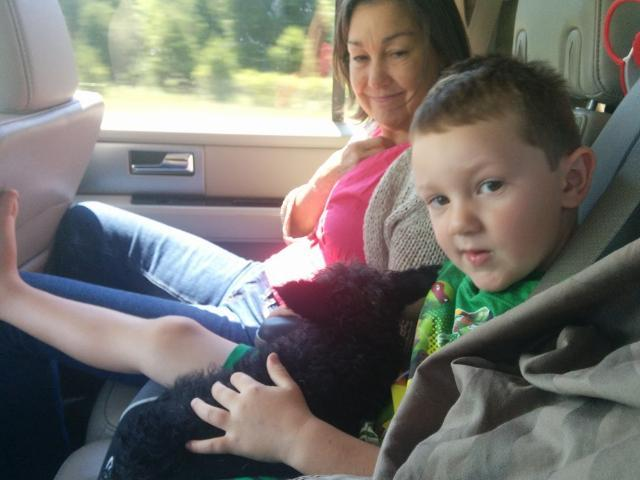SafeDriving: (468, 164, 516, 204), (419, 181, 460, 217), (383, 37, 414, 65), (346, 42, 374, 68)
Seatbelt: (579, 78, 639, 222)
